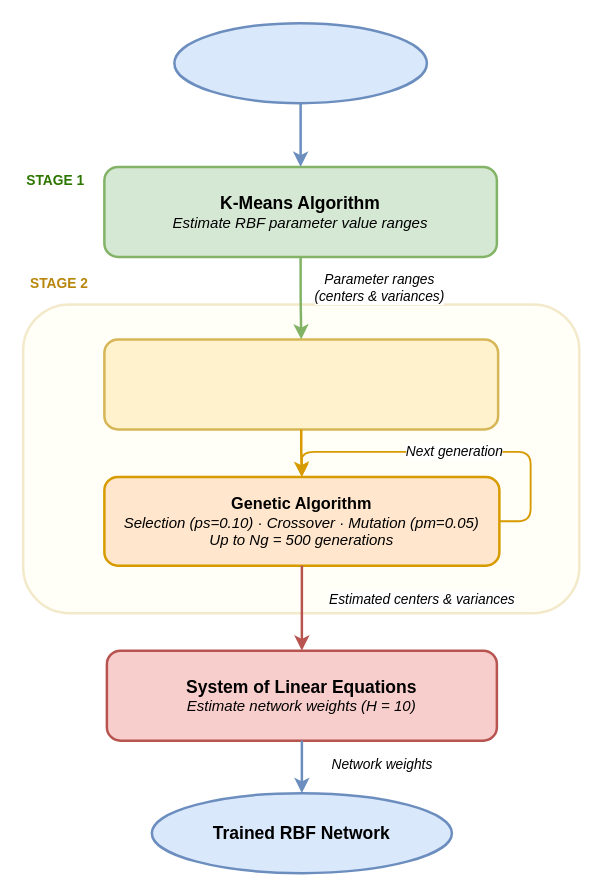
Image size: 601x895. Some labels were removed from this diagram. Each missing label, with the centre of its shape:
Chromosome Initialization Nc = 500 chromosomes initialized within K-Means ranges: (x=300, y=384)
Input Training Data: (x=300, y=62)
